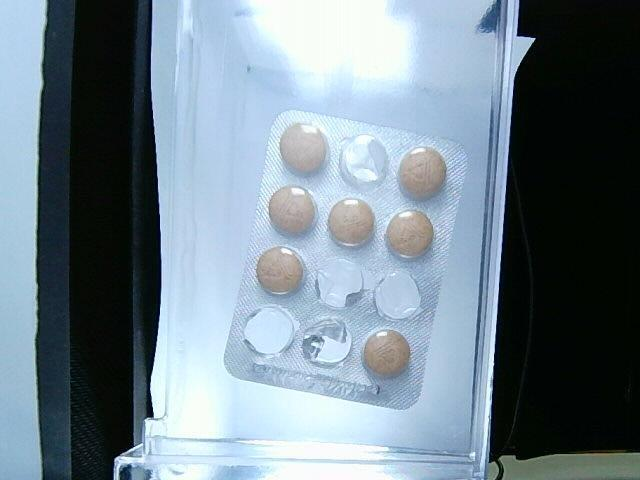Light Front: (223, 110, 468, 411)
No Pill Front: (244, 305, 299, 357), (316, 259, 373, 308), (339, 134, 389, 187), (303, 318, 351, 366), (375, 270, 421, 319)
Pill Front: (279, 123, 327, 176), (398, 146, 446, 197), (269, 185, 317, 234), (328, 198, 375, 247), (386, 210, 433, 258), (256, 246, 303, 294), (363, 329, 410, 377)
